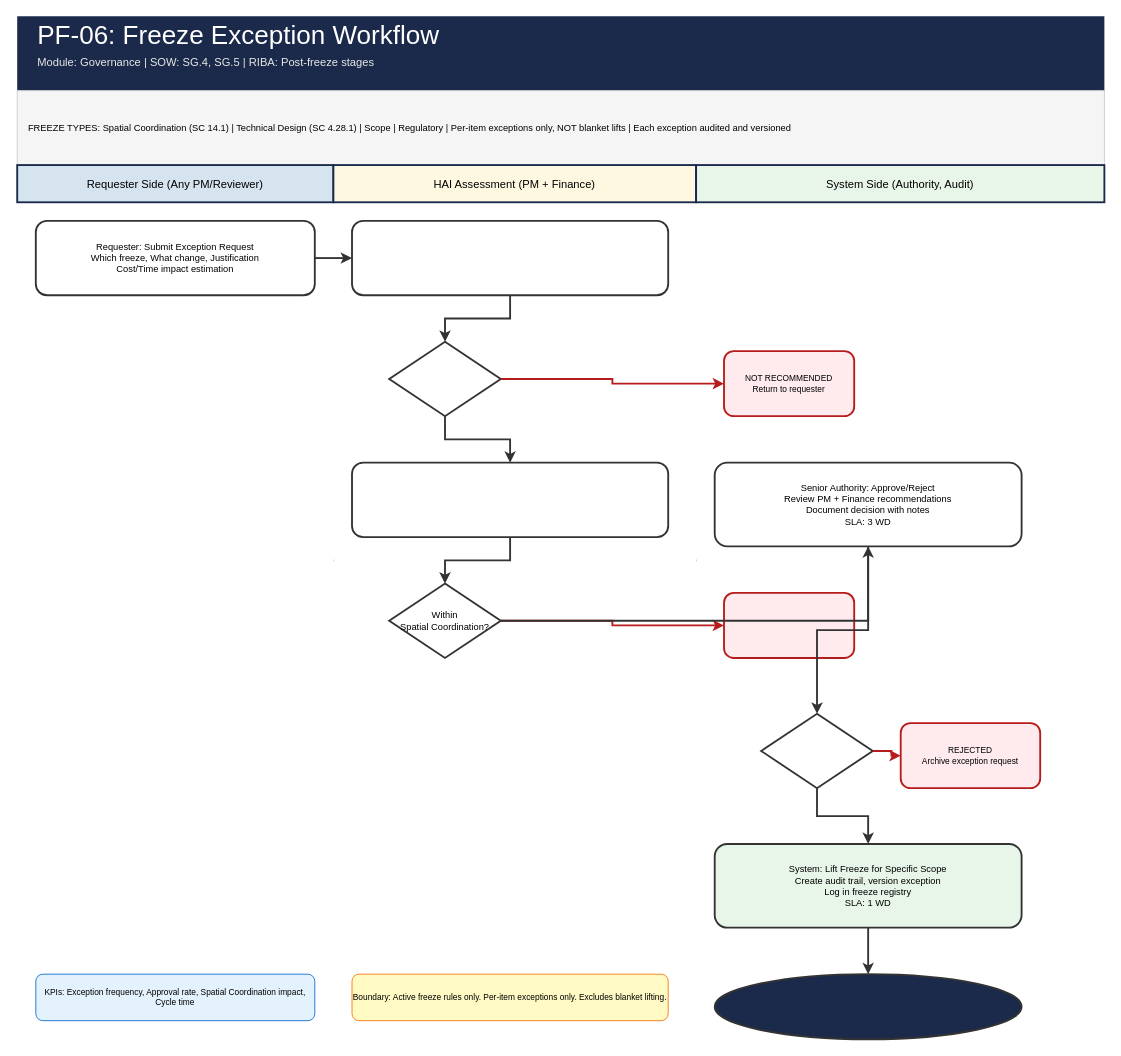
The diagram is 1121 pixels wide and 1056 high, and some of its shapes have lost their labels. Each missing label, with the centre of its shape:
"Authority Approve?" goes at pixel 816 750.
"END: Exception Processed Freeze Lifted (if approved)" goes at pixel 867 1006.
"HAI Finance: Financial Impact Within budget OR Requires amendment SLA: 2 WD" goes at pixel 510 499.
"HAI PM: Technical Assessment Review justification, scope impact SLA: 2 WD" goes at pixel 510 257.
"PM Recommend?" goes at pixel 444 378.
"REQUIRES BUDGET AMENDMENT Hold pending budget approval" goes at pixel 789 624.
